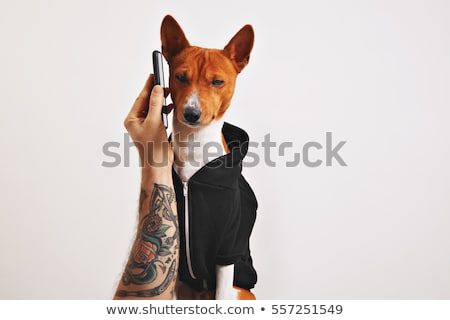phone: (140, 46, 175, 143)
